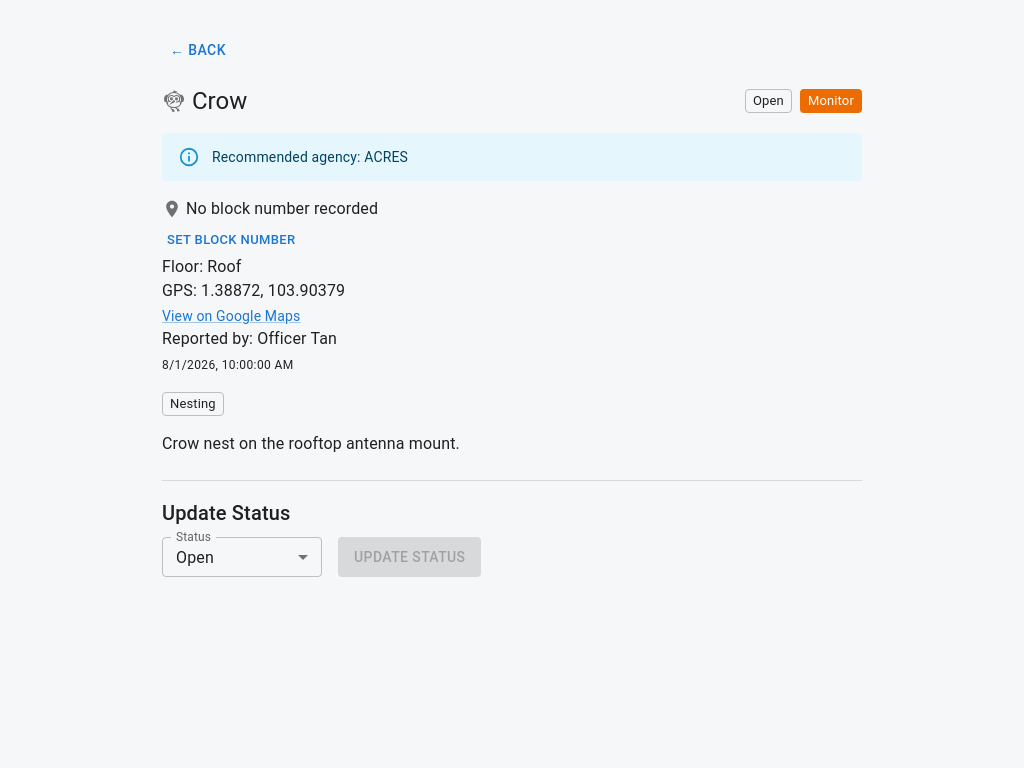
Test: FaunaSightingDetail - setting a block on a blockless sighting › surfaces the API error when the block patch fails
Click the button "Set block number".
click(231, 240)  # box [162,224,300,255]
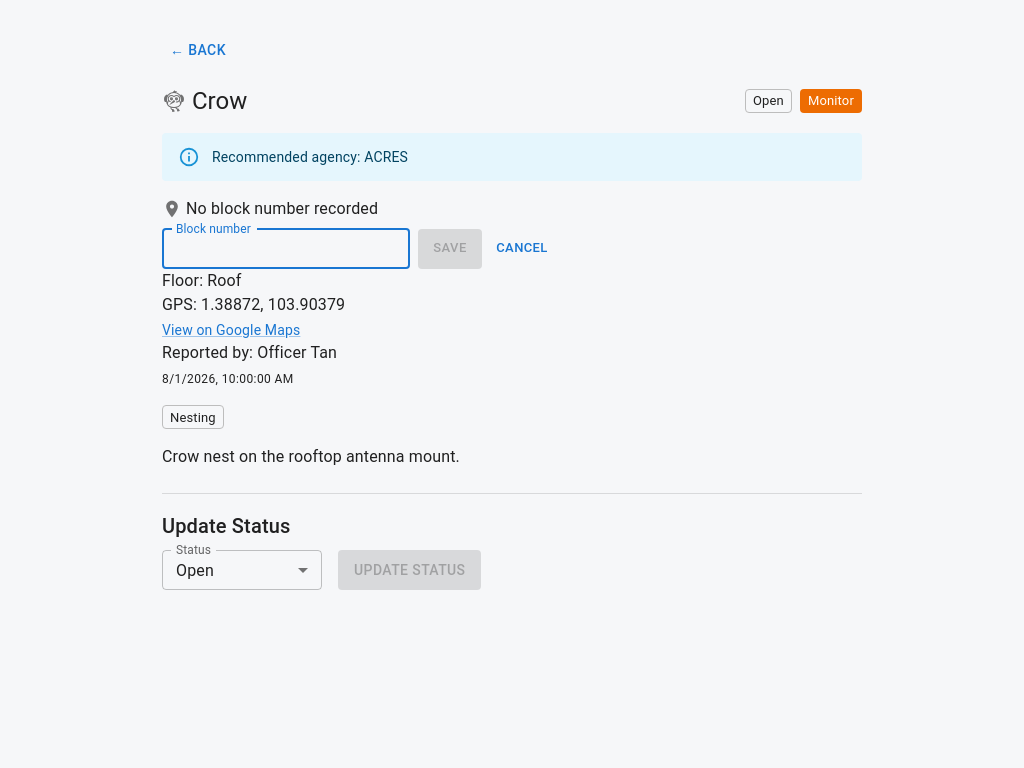
Type "Block 305" into the field labelled "Block number".
click(286, 248); type("Block 305")  # box [162,228,410,268]
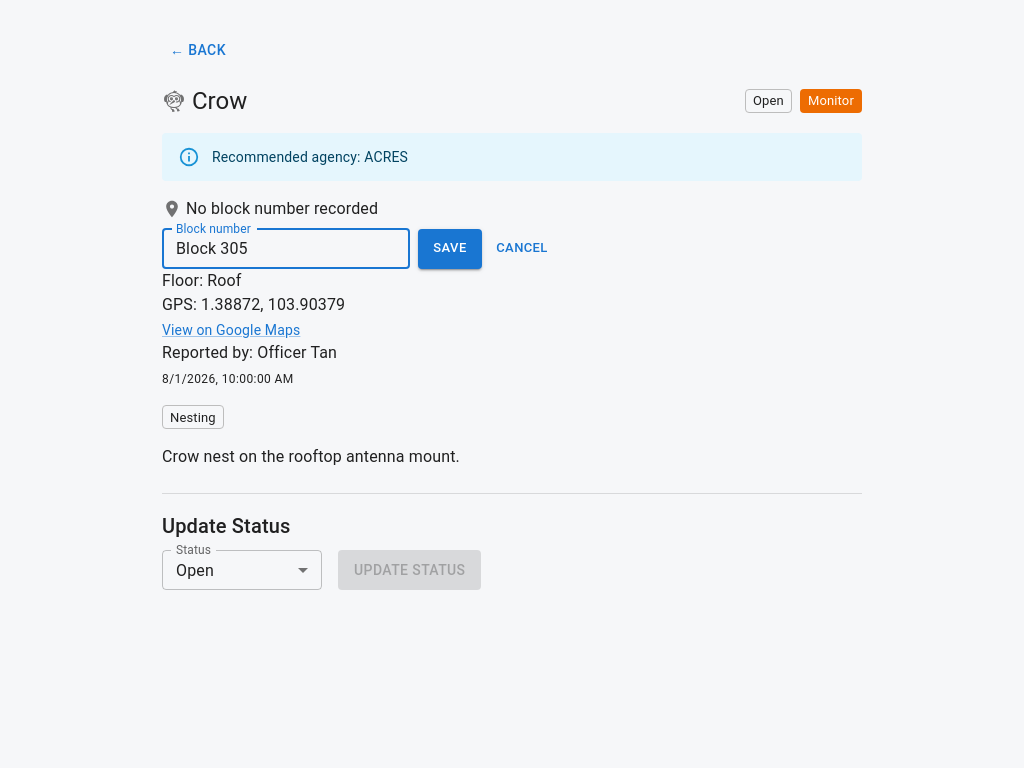
Click the button "Save".
click(450, 248)  # box [418,228,482,268]
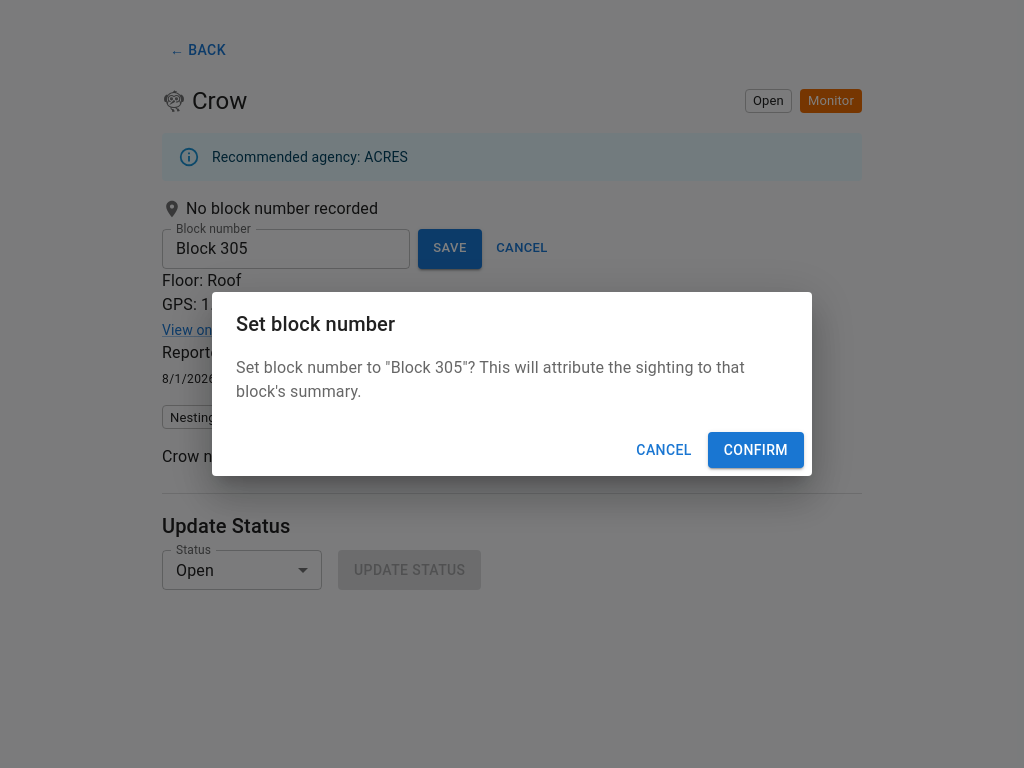
Click the button "Confirm".
click(756, 450)  # box [708,432,804,468]
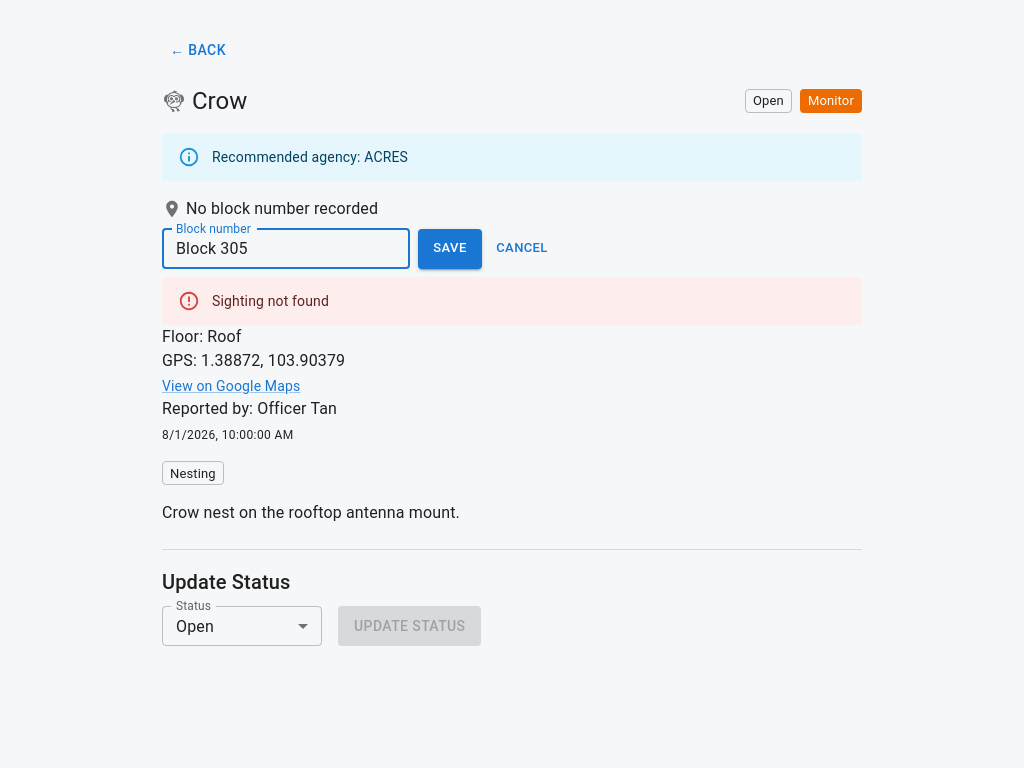
Expected: the text "Sighting not found" is shown, [212,292,329,308]
